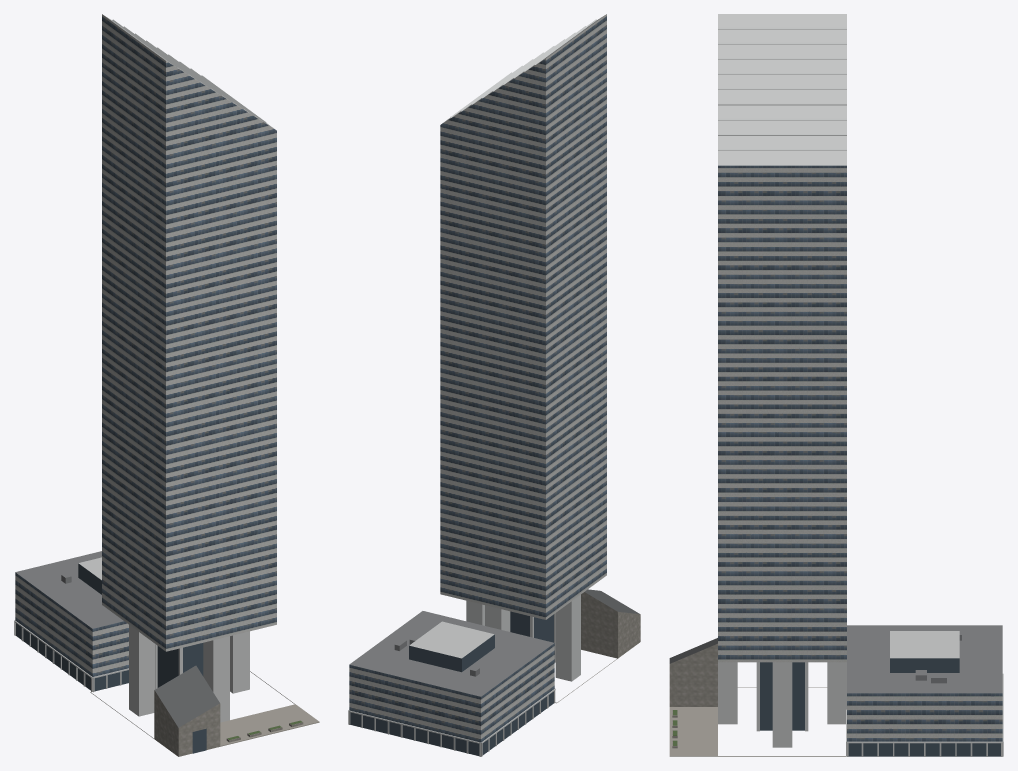
The model's file is citigroup_center.glb.
3 renders of one model, left to right at view 1: azimuth 30°, elevation 25°; view 2: azimuth 150°, elevation 25°; view 3: azimuth 270°, elevation 25°, orthographic. The views are drawn at different scales.
Parts seen in each view (by area): view 1: citigroup_center; view 2: citigroup_center; view 3: citigroup_center.
Part boxes in pixels (x1=…): citigroup_center: x1=14, y1=14, x2=319, y2=756; citigroup_center: x1=348, y1=14, x2=640, y2=756; citigroup_center: x1=669, y1=14, x2=1003, y2=756.
Bounding box in the file's own units: 61.41 × 279 × 125.
3 materials, 3 textured.
